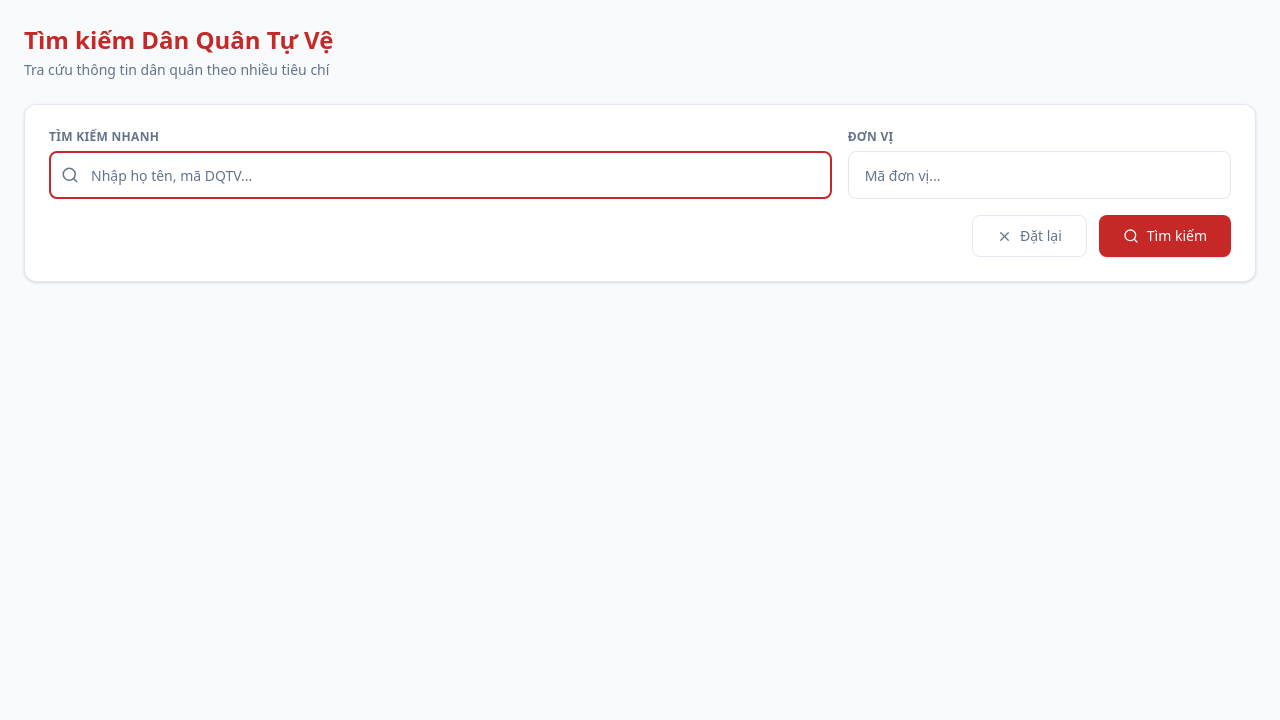
MilitiaSearchPage › resets form on reset button click
In the field with test id "militia-search-input": {"x": 440, "y": 175} [49, 151, 832, 199], type "test"
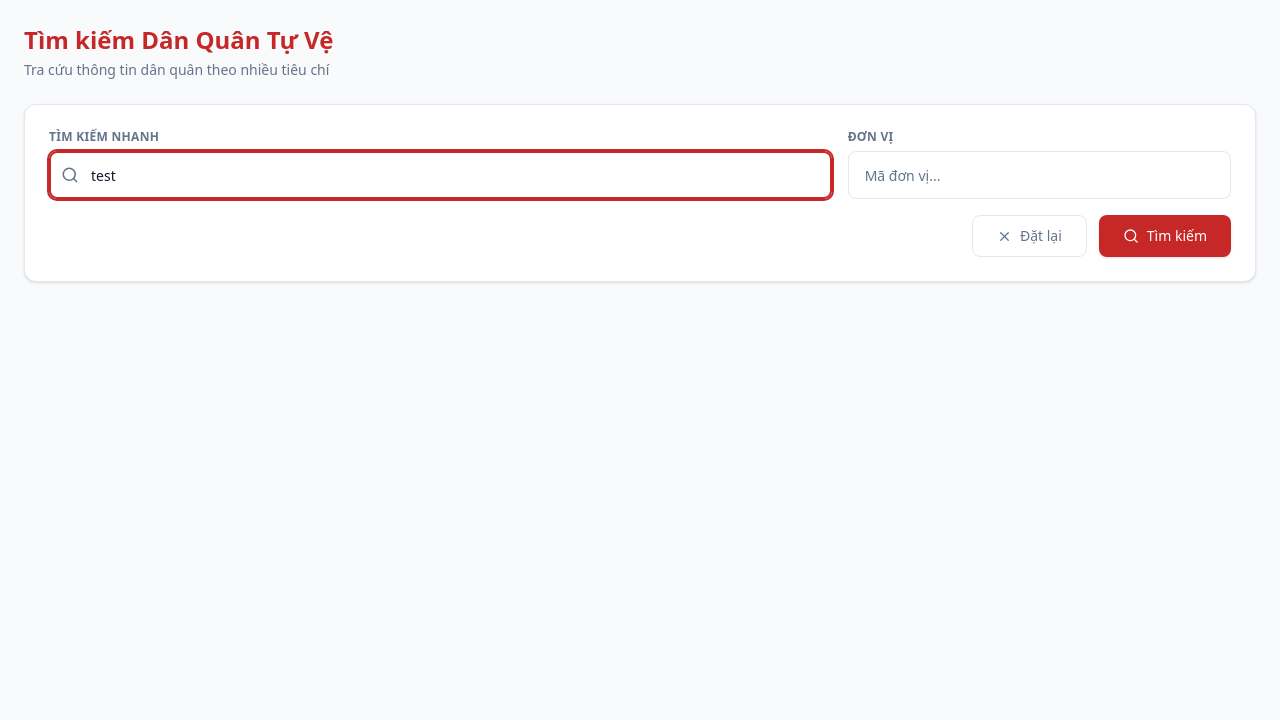
Click the button with test id "search-btn": {"x": 1165, "y": 236} [1099, 215, 1231, 257]
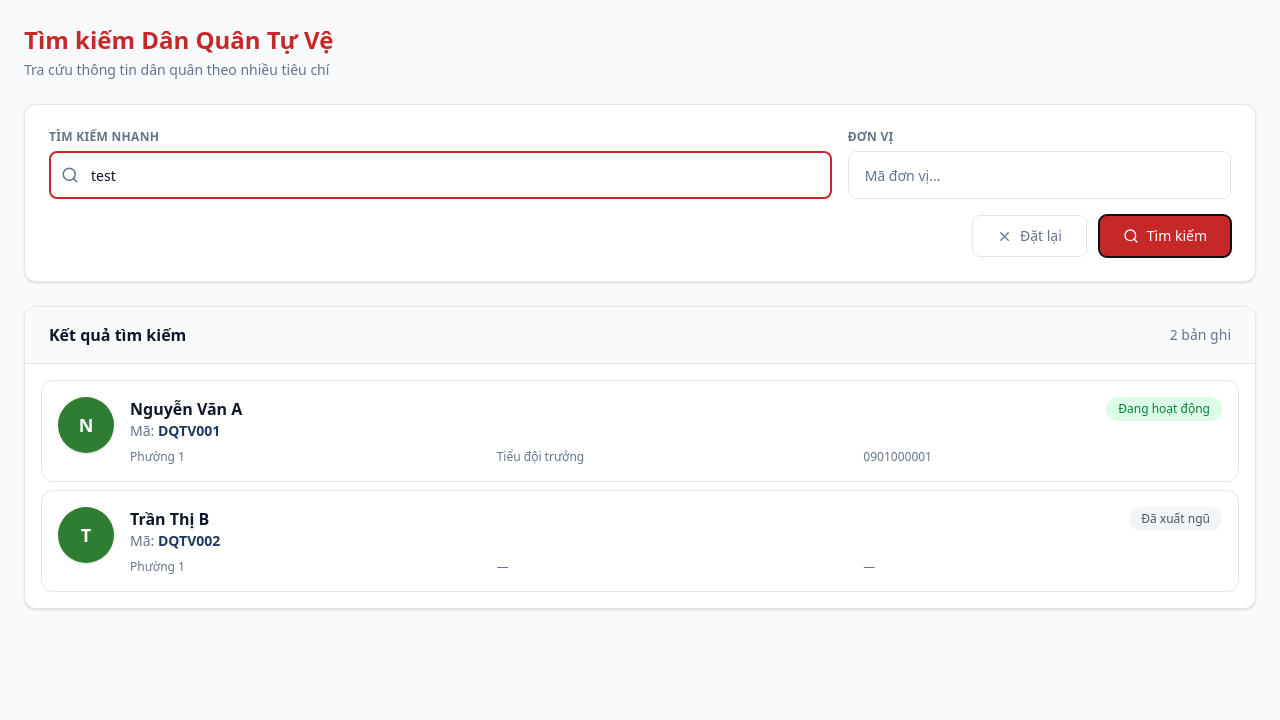
Expected: the element with test id "search-results" is shown, [24, 306, 1256, 609]
Click the button with test id "reset-search-btn": {"x": 1029, "y": 236} [972, 215, 1087, 257]
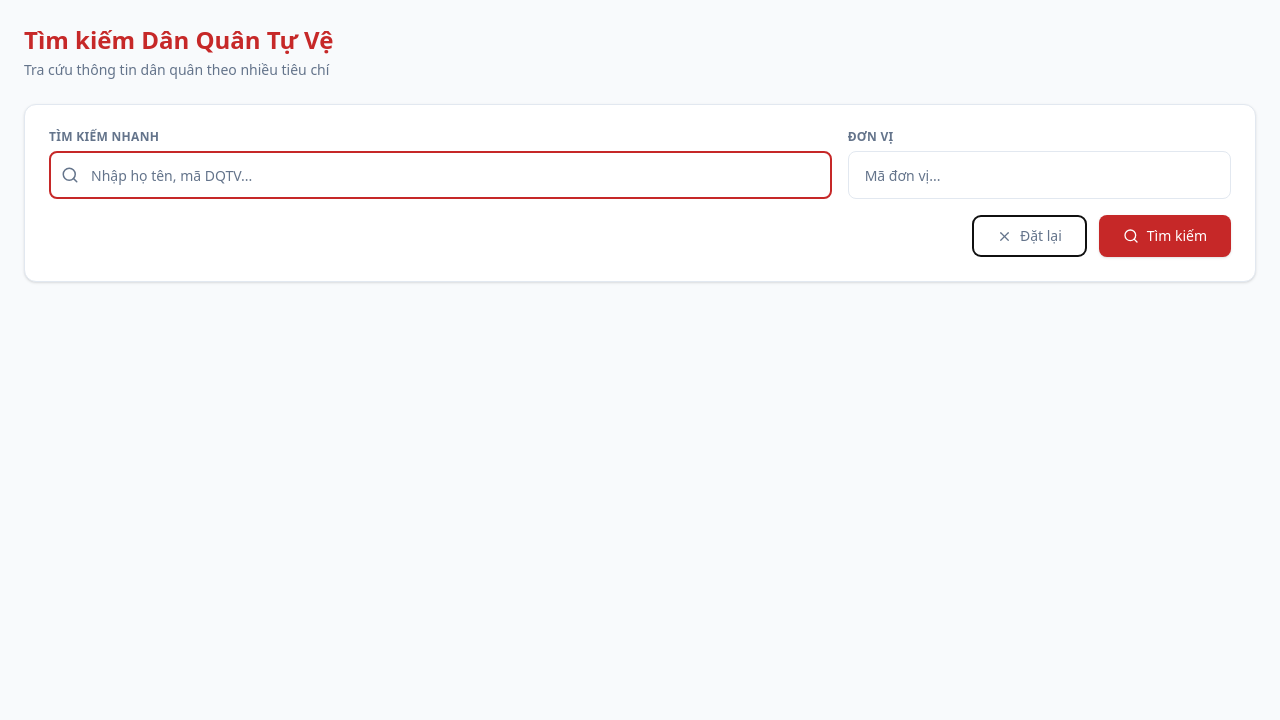
Expected: the element with test id "search-results" is gone
Expected: the field with test id "militia-search-input" is empty, [49, 151, 832, 199]
